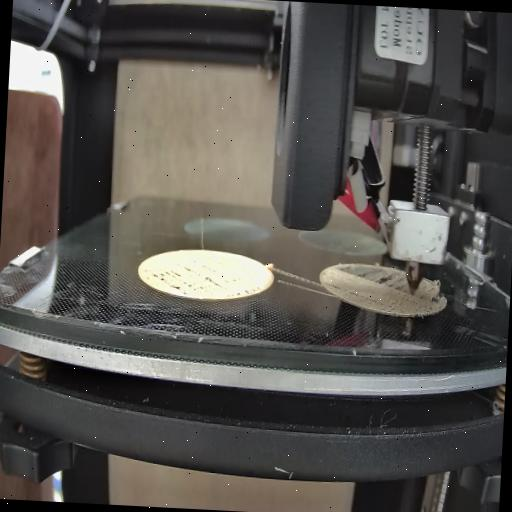under_extrusion: (146, 268, 266, 300), (340, 264, 406, 284), (426, 270, 446, 307)
